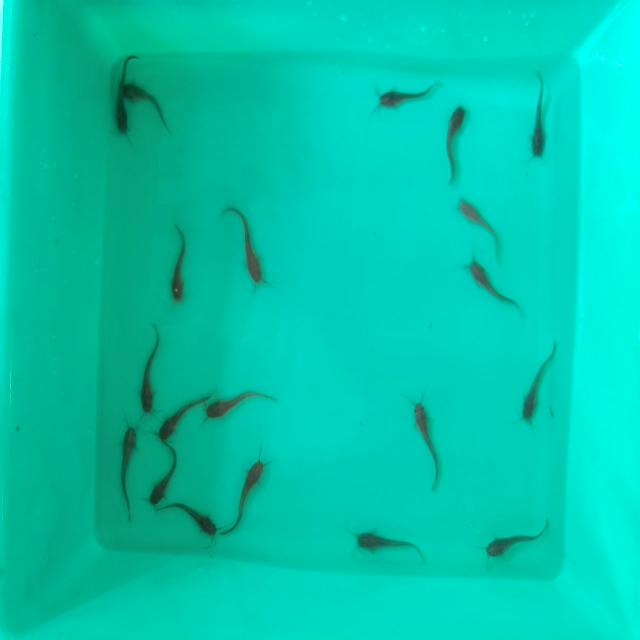lele: (222, 455, 276, 537), (520, 344, 562, 428), (229, 204, 270, 285), (483, 520, 552, 564), (411, 398, 444, 490), (470, 258, 524, 307), (154, 390, 203, 442), (115, 424, 141, 522), (159, 498, 218, 538), (377, 75, 439, 112), (205, 392, 272, 425), (458, 199, 502, 249), (140, 327, 164, 418), (168, 223, 193, 310), (525, 70, 549, 158), (146, 445, 180, 506), (127, 78, 169, 124), (110, 52, 130, 141), (445, 105, 469, 178), (354, 531, 424, 553)
